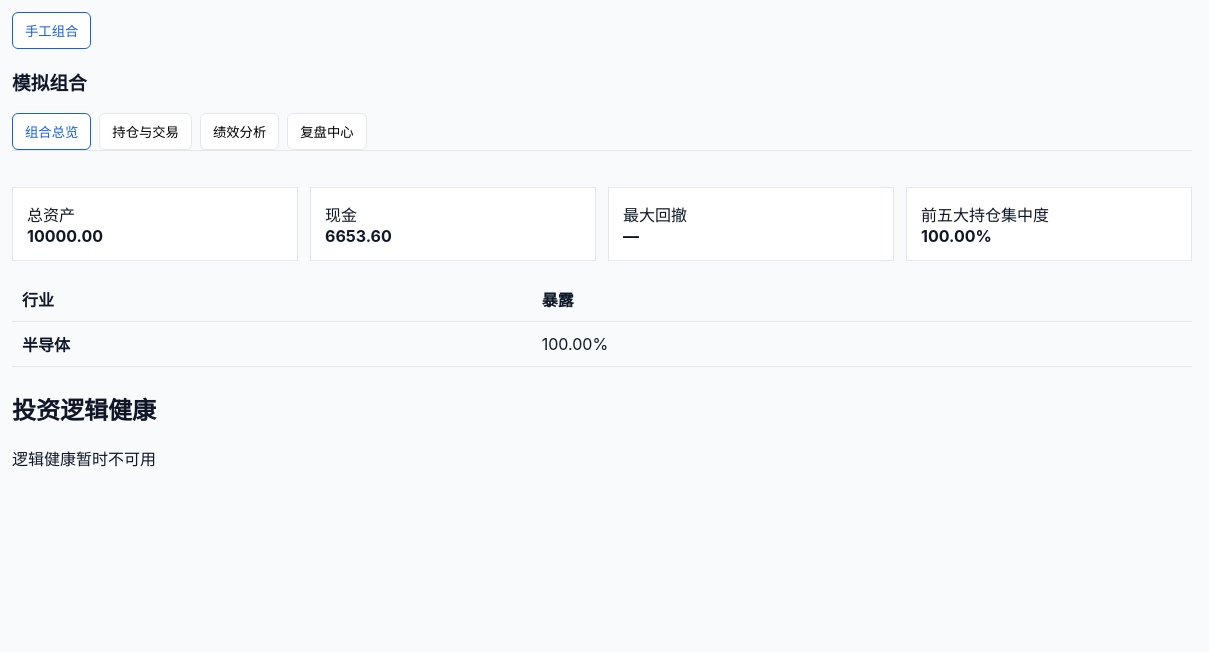
Test: snoozes a concentration alert and creates a versioned weekly review
Click the tab "复盘中心" at (327, 132), box top-left (287, 113), bottom-right (367, 150)
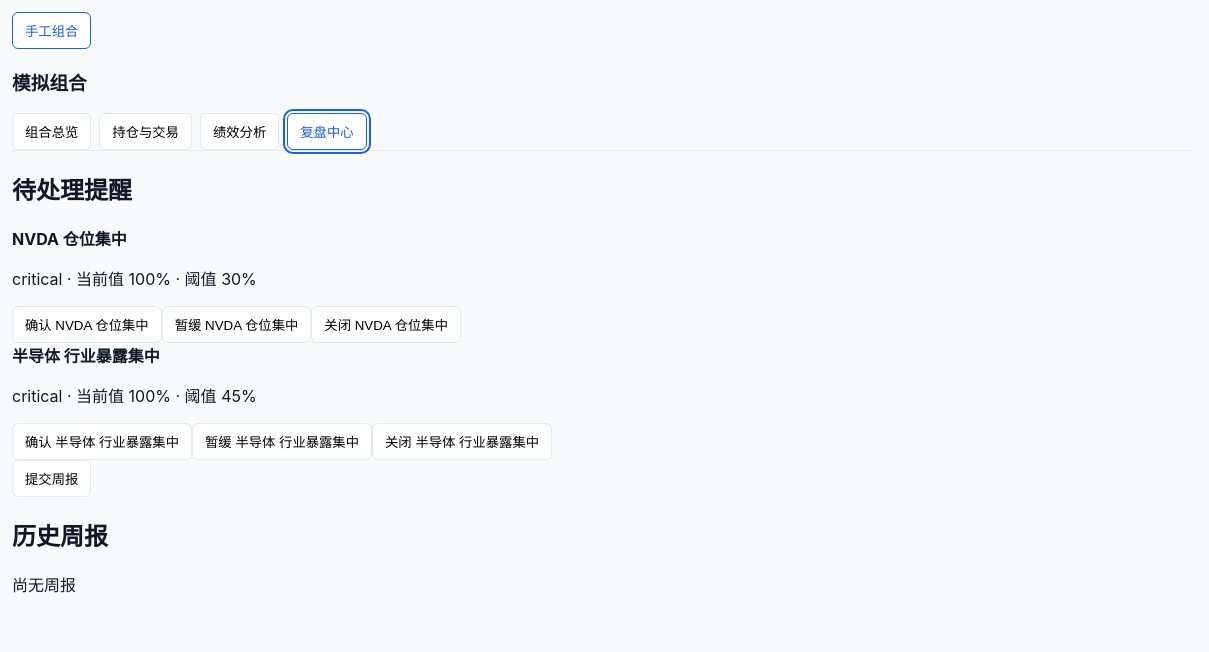
expect the text "NVDA 仓位集中" is shown: met, box top-left (12, 229), bottom-right (127, 249)
Click the button "暂缓 NVDA 仓位集中" at (237, 325), box top-left (162, 306), bottom-right (311, 343)
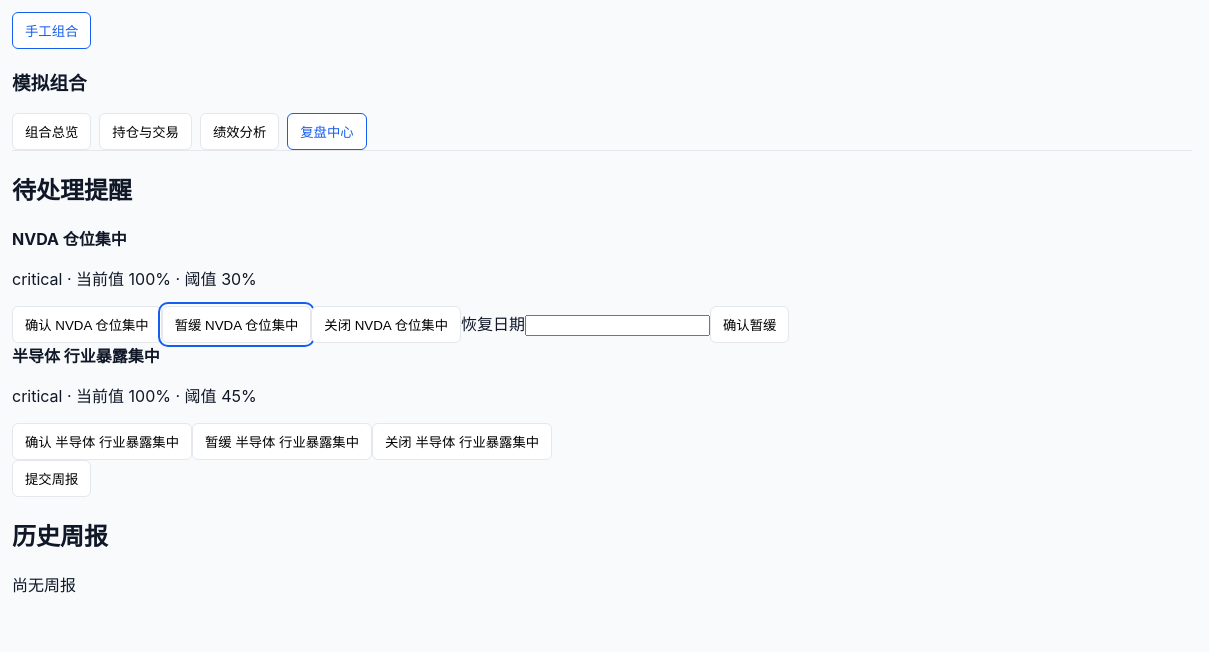
Type "2026-08-10" into the field labelled "恢复日期" at (618, 326), box top-left (525, 315), bottom-right (710, 336)
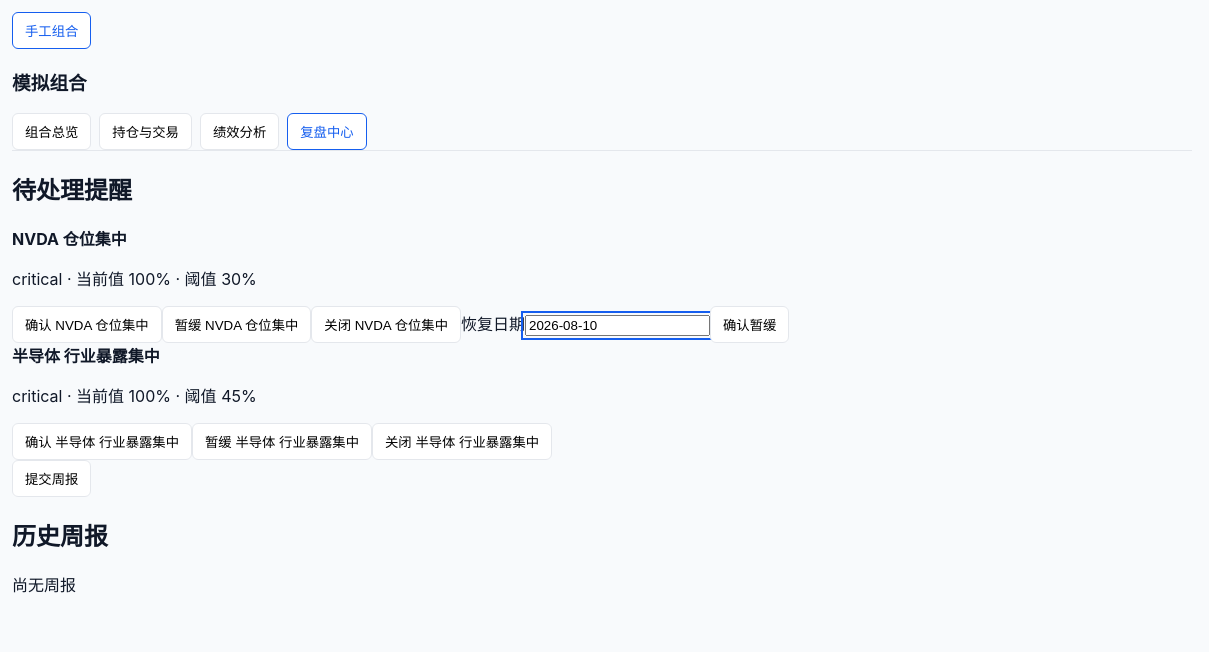
Click the button "确认暂缓" at (750, 325), box top-left (710, 306), bottom-right (789, 343)
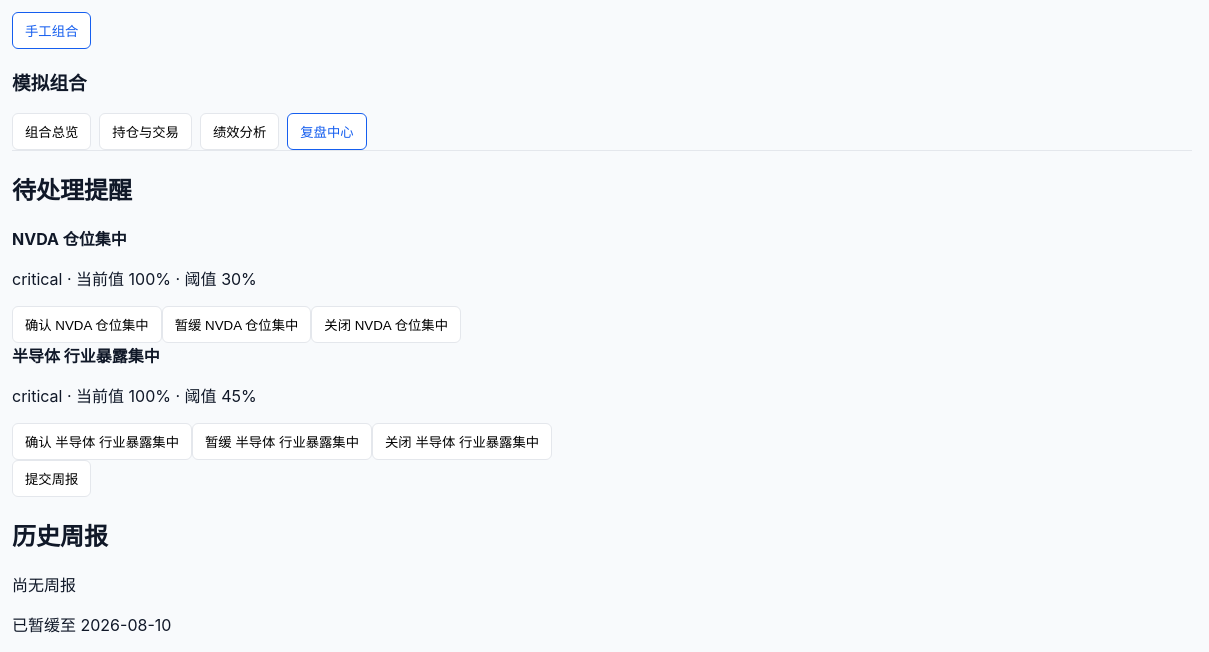
expect the text "已暂缓至 2026-08-10" is shown: met, box top-left (12, 615), bottom-right (171, 635)
Click the button "提交周报" at (52, 479), box top-left (12, 460), bottom-right (91, 497)
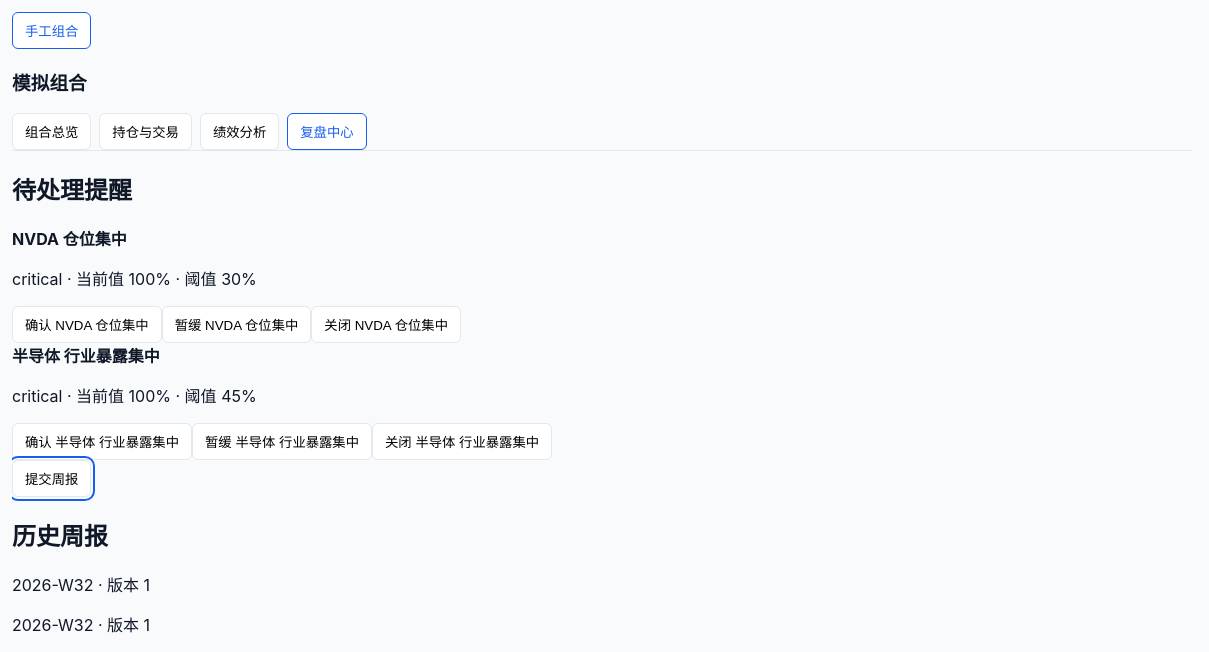
expect the message reads "2026-W32 · 版本 1": met, box top-left (12, 615), bottom-right (150, 635)
